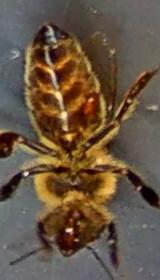varroa_mite: (69, 86, 118, 122)
